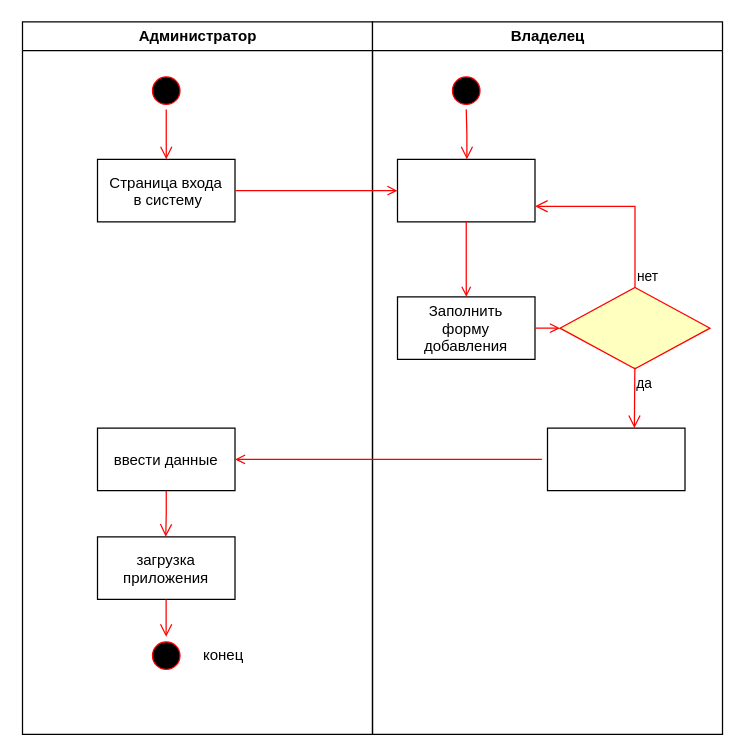
Some shapes in this 744 by 756 pixel diagram are drawn without their labels. The shapes that lost their labels are listed below. From the top down, each one's centre as x and y in pixels, then its label:
pixel 465 190: Загрузка таблицы сотрудники
pixel 634 327: данные валидны
pixel 615 459: аккаунт добавлен
